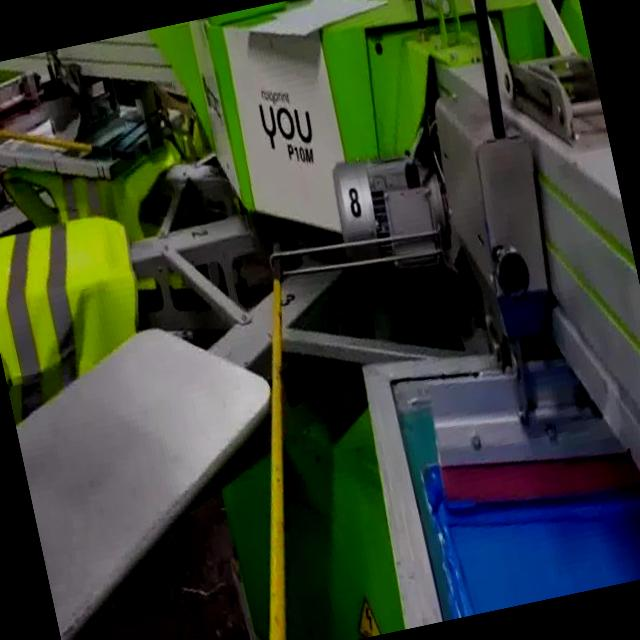vest: (0, 201, 164, 428)
